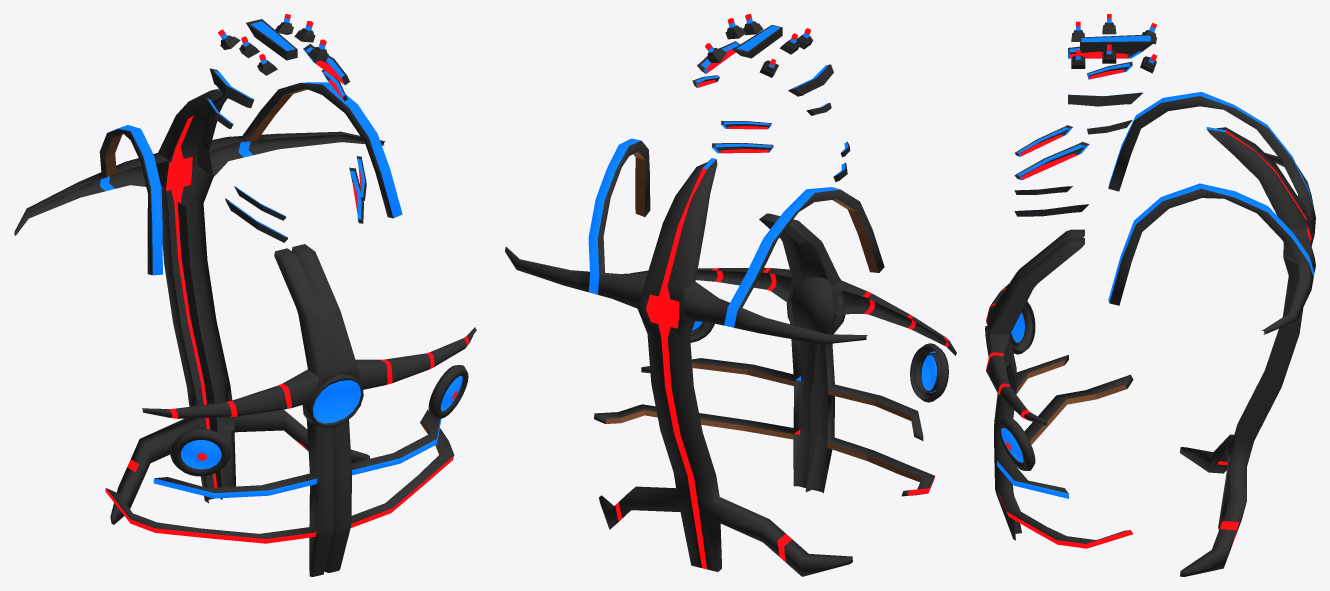
The model's file is exo.fbx.
3 renders of one model, left to right at view 1: azimuth 30°, elevation 25°; view 2: azimuth 150°, elevation 25°; view 3: azimuth 270°, elevation 25°, orthographic. The views are drawn at different scales.
Visible parts, largest first — view 1: Body Exo, Head Exo; view 2: Body Exo, Head Exo; view 3: Body Exo, Head Exo.
Boxes of the visible parts, box(x1,y1,x2,y2) form: Body Exo: box(14, 82, 476, 576); Head Exo: box(205, 14, 366, 242); Body Exo: box(505, 138, 956, 576); Head Exo: box(692, 14, 850, 181); Body Exo: box(985, 92, 1315, 576); Head Exo: box(1014, 14, 1156, 216).
Size of the model in its own units: 731 by 966 by 573.
